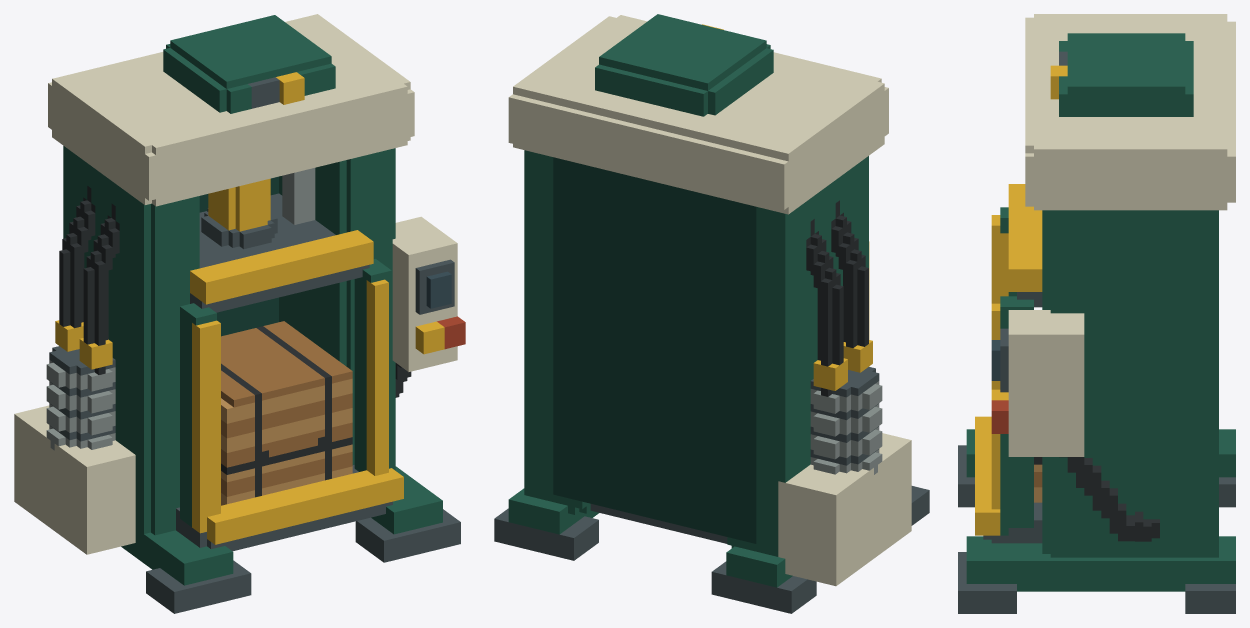
File: compactor.glb
The picture shows the model from 3 angles, left to right: view 1: azimuth 30°, elevation 25°; view 2: azimuth 150°, elevation 25°; view 3: azimuth 270°, elevation 25°; orthographic projection. The views are drawn at different scales.
Parts seen in each view (by area): view 1: compactor; view 2: compactor; view 3: compactor.
Boxes of the visible parts, x1,y1,x2,y2 form: compactor: (14, 14, 465, 613); compactor: (494, 14, 929, 613); compactor: (958, 14, 1235, 613).
Bounding box in the file's own units: 4.41 × 5.76 × 2.97.
